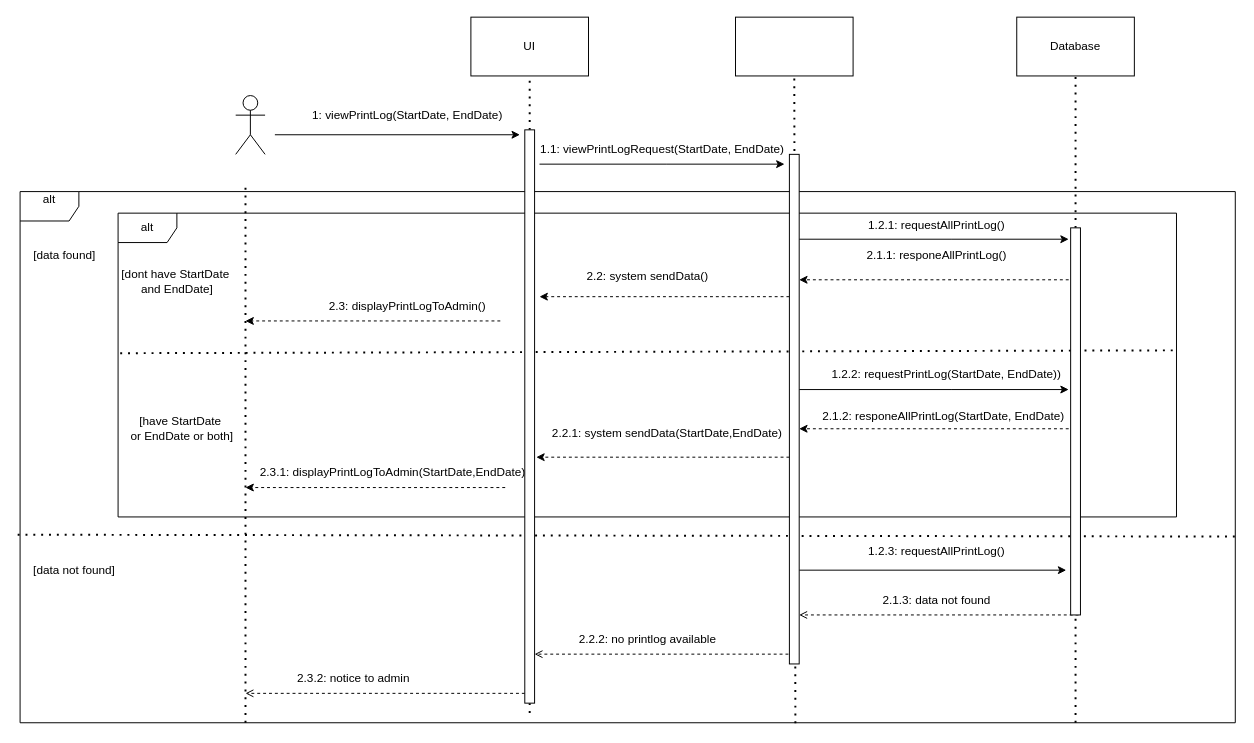
The diagram is 1254 pixels wide and 743 high, and some of its shapes have lost their labels. Each missing label, with the centre of its shape:
"Admin" goes at point 250,124.
"System" goes at point 794,46.
